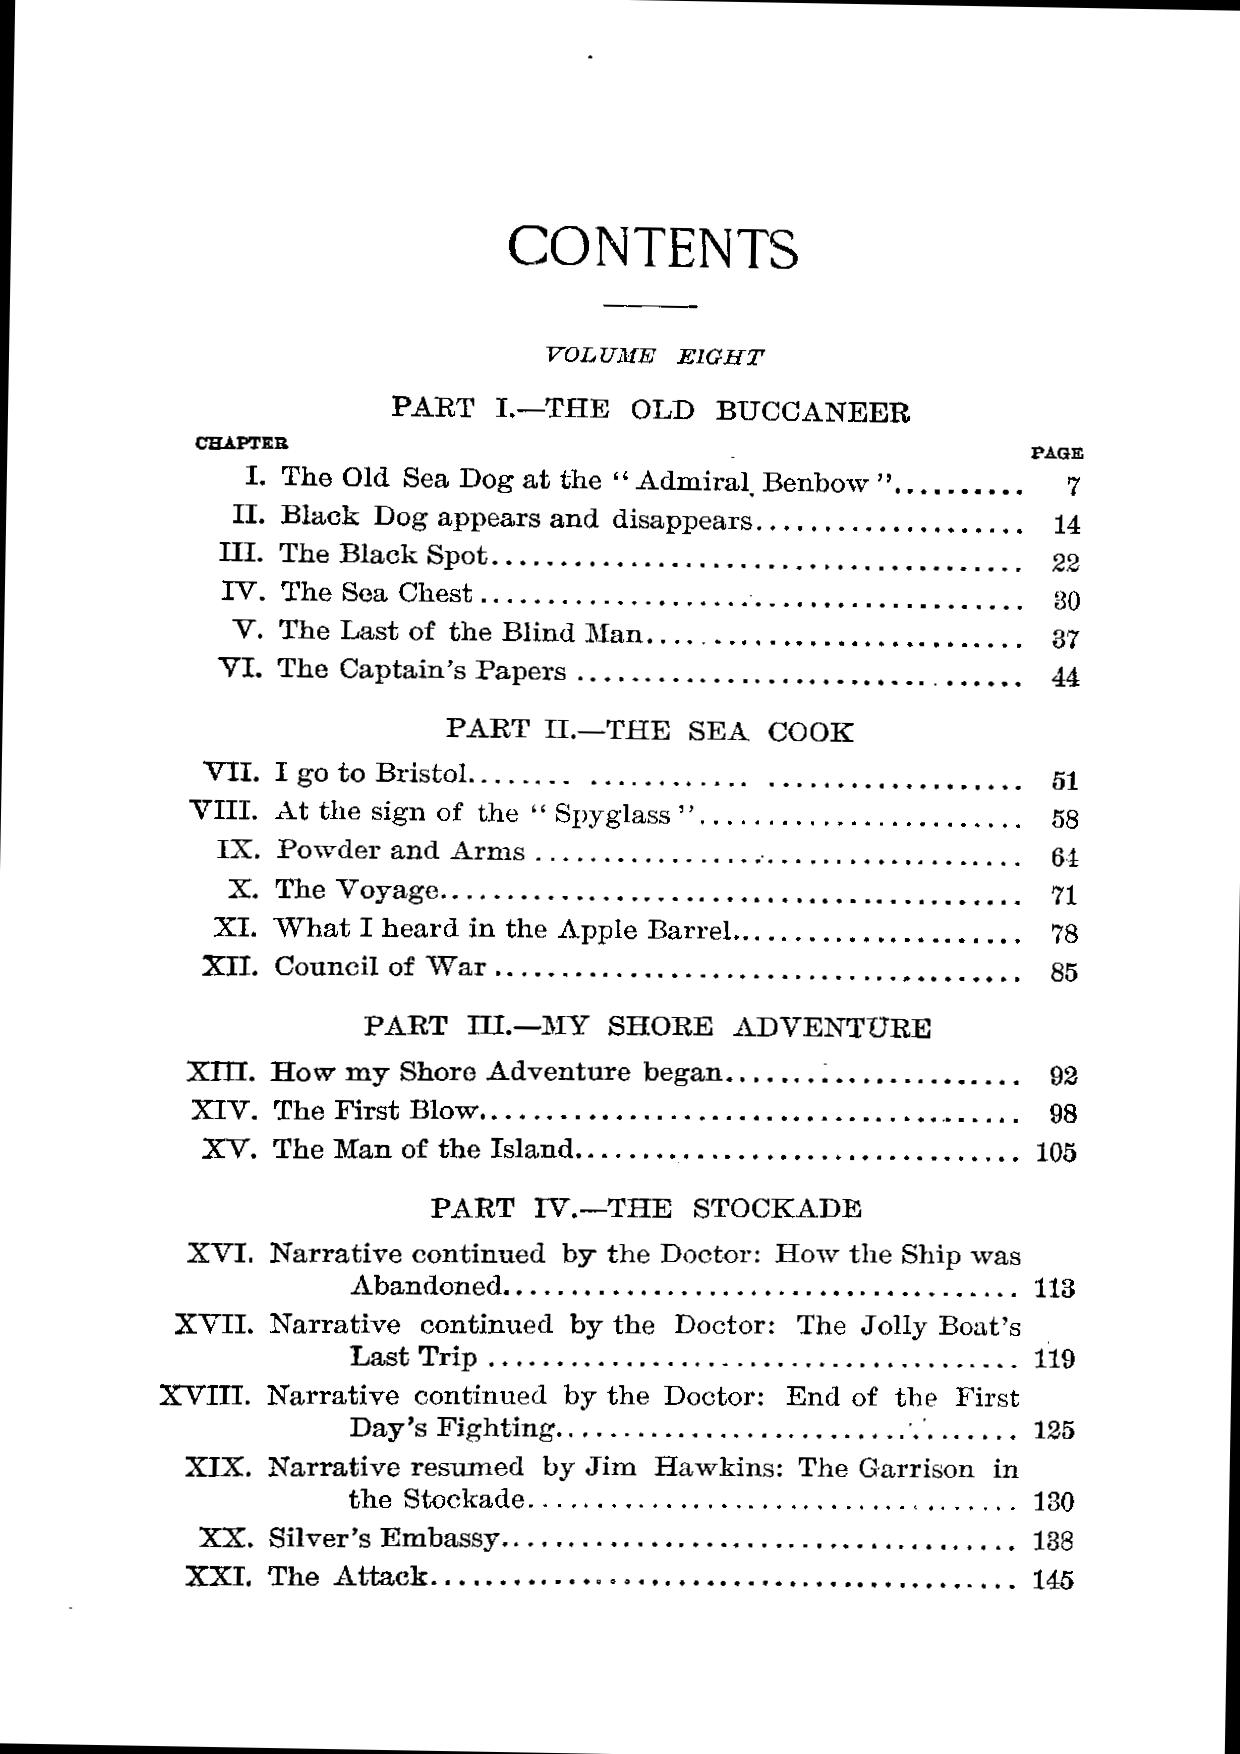TOC_chapter: (170, 1308, 1023, 1374), (157, 1380, 1023, 1443), (181, 1448, 1019, 1512), (184, 1237, 1023, 1296), (381, 341, 917, 425), (243, 459, 894, 501), (229, 498, 753, 535), (361, 1011, 933, 1041), (188, 797, 692, 831), (211, 913, 731, 943), (180, 1057, 723, 1087), (428, 1192, 867, 1223), (446, 714, 858, 745), (199, 1134, 576, 1165), (215, 654, 566, 686), (229, 617, 641, 644), (195, 951, 488, 982), (200, 756, 468, 789), (216, 836, 527, 864), (217, 538, 488, 570), (195, 1523, 501, 1551), (187, 1096, 480, 1125), (183, 1559, 432, 1592), (217, 577, 471, 604), (225, 878, 442, 909)
TOC_pagenumber: (1029, 1416, 1080, 1443), (1031, 1563, 1074, 1594), (1031, 1343, 1078, 1372), (1032, 1137, 1078, 1165), (1032, 1272, 1079, 1299), (1033, 1486, 1074, 1515), (1031, 1525, 1076, 1550), (1049, 764, 1079, 794), (1049, 549, 1084, 574), (1049, 960, 1080, 988), (1051, 586, 1084, 612), (1052, 807, 1082, 833), (1049, 1100, 1080, 1126), (1052, 510, 1084, 534), (1052, 663, 1082, 688), (1052, 844, 1082, 870), (1051, 625, 1082, 650), (1047, 1062, 1079, 1084), (1049, 880, 1078, 906), (1048, 921, 1078, 943), (1066, 471, 1083, 497)
chapter: (502, 217, 801, 274)
